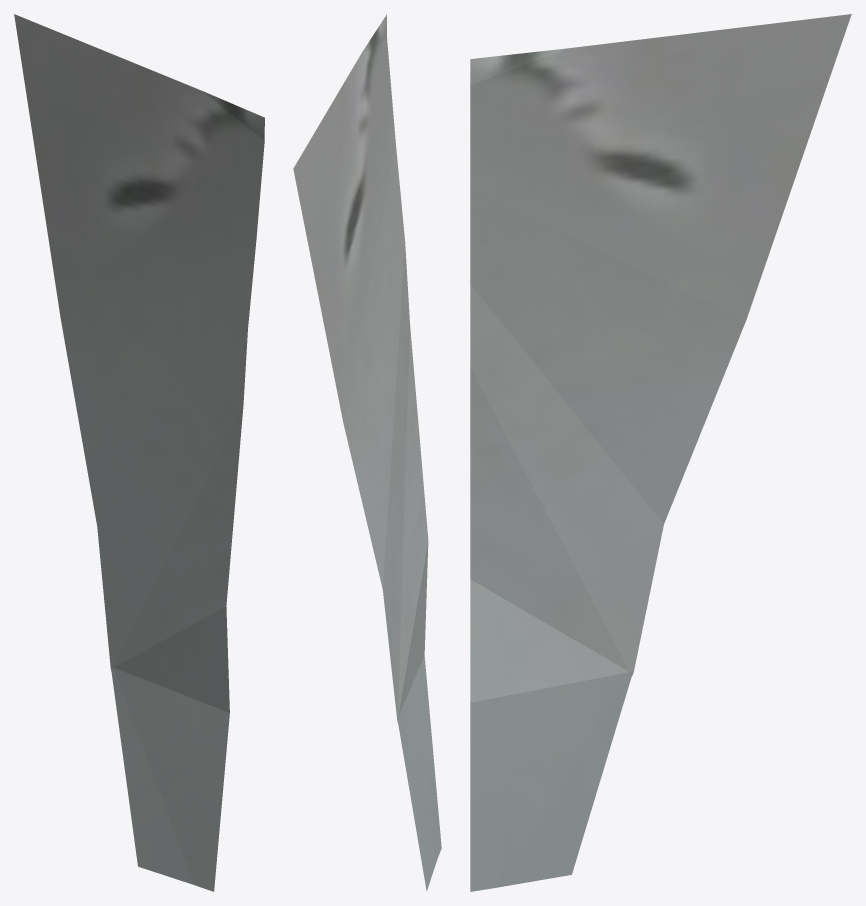
3 views of the same model, side by side, from view 1: azimuth 30°, elevation 25°; view 2: azimuth 150°, elevation 25°; view 3: azimuth 270°, elevation 25° (orthographic). The views are drawn at different scales.
Size of the model in its own units: 0.0942 by 0.8374 by 0.3364.
1 material, 1 textured.
